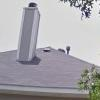Chimney: (18, 4, 53, 68)
